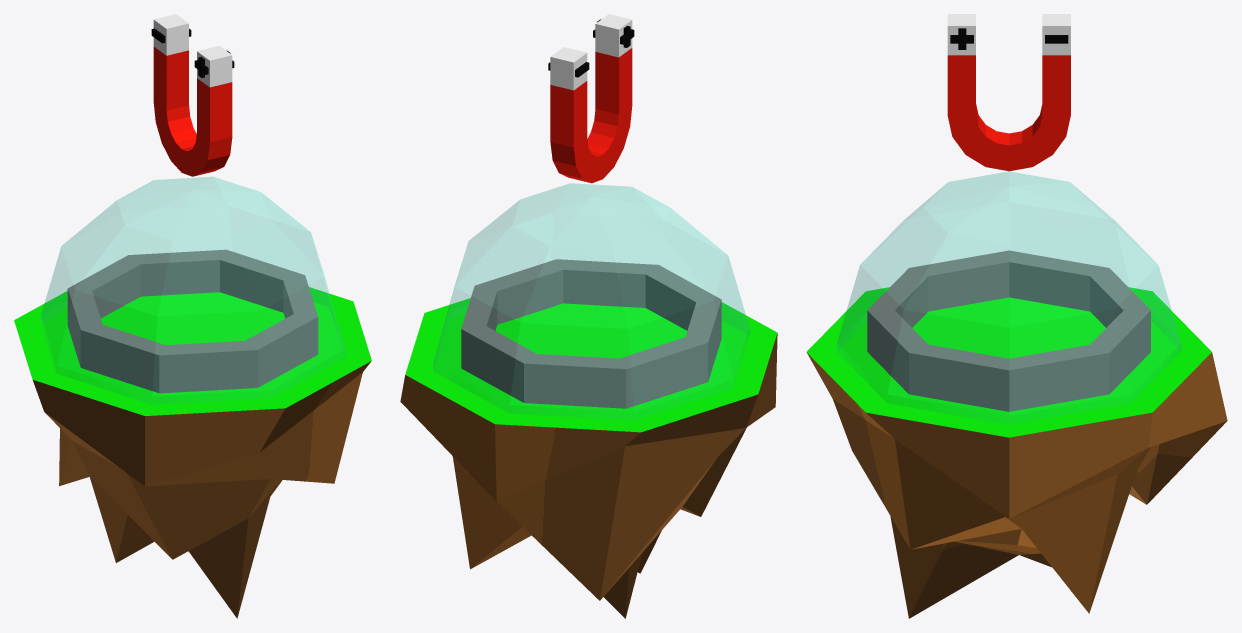
The model's file is palantir.obj.
The picture shows the model from 3 angles, left to right: view 1: azimuth 30°, elevation 25°; view 2: azimuth 150°, elevation 25°; view 3: azimuth 270°, elevation 25°; orthographic projection. The views are drawn at different scales.
Parts seen in each view (by area): view 1: Base_mundo_Sphere.002, Cristal_Sphere.003, magnet_Cylinder; view 2: Base_mundo_Sphere.002, Cristal_Sphere.003, magnet_Cylinder; view 3: Base_mundo_Sphere.002, Cristal_Sphere.003, magnet_Cylinder.
Boxes of the visible parts, x1,y1,x2,y2 form: Base_mundo_Sphere.002: [14, 249, 371, 618]; Cristal_Sphere.003: [41, 177, 344, 403]; magnet_Cylinder: [151, 14, 234, 176]; Base_mundo_Sphere.002: [400, 259, 777, 618]; Cristal_Sphere.003: [433, 183, 749, 419]; magnet_Cylinder: [548, 14, 634, 183]; Base_mundo_Sphere.002: [806, 250, 1227, 618]; Cristal_Sphere.003: [837, 171, 1181, 423]; magnet_Cylinder: [947, 14, 1070, 171].
Size of the model in its own units: 17.19 by 28.03 by 17.84.
Materials: 3 (3 with a texture image).
